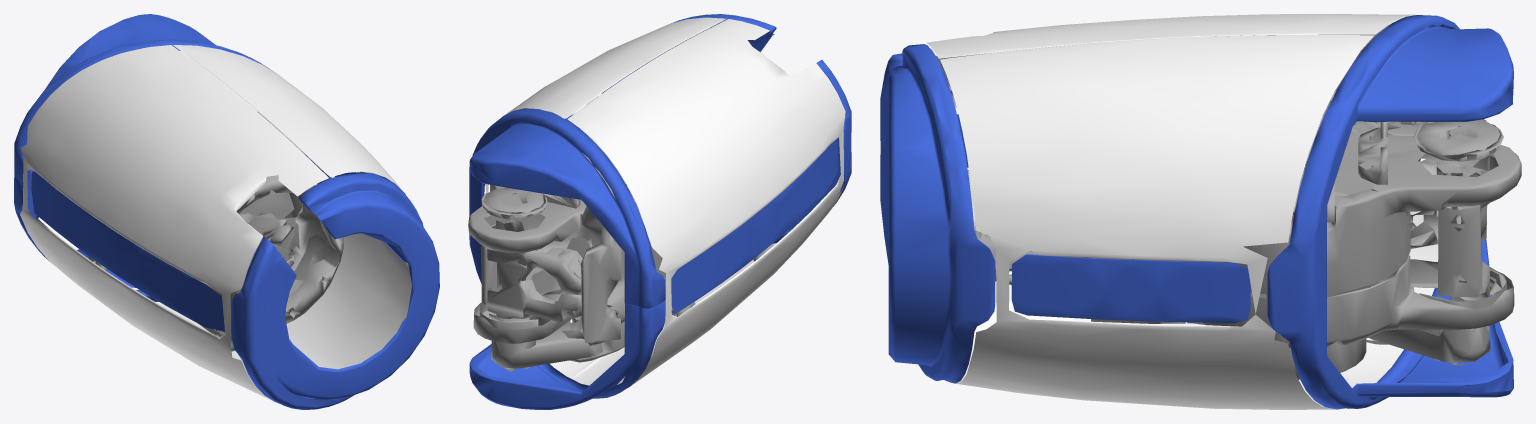
File: sim_ecub_1-1_r_upperarm.obj
3 views of the same model, side by side, from view 1: azimuth 30°, elevation 25°; view 2: azimuth 150°, elevation 25°; view 3: azimuth 270°, elevation 25° (orthographic). The views are drawn at different scales.
Bounding box in the file's own units: 107 × 107 × 174.
